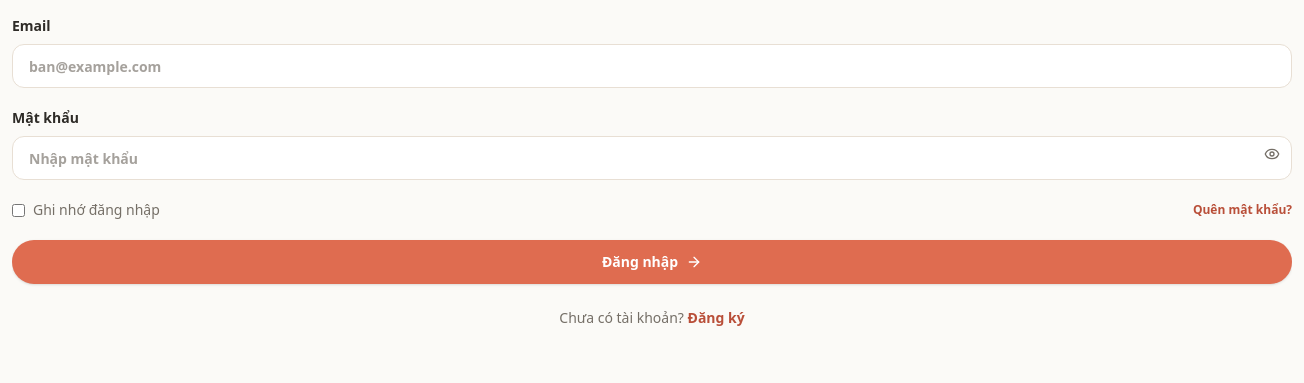
LoginForm › renders the generic credential error accessibly
This screenshot has width=1304, height=383.
Type " USER@example.com " into the field labelled "Email" at (652, 66), box [12, 44, 1292, 88]
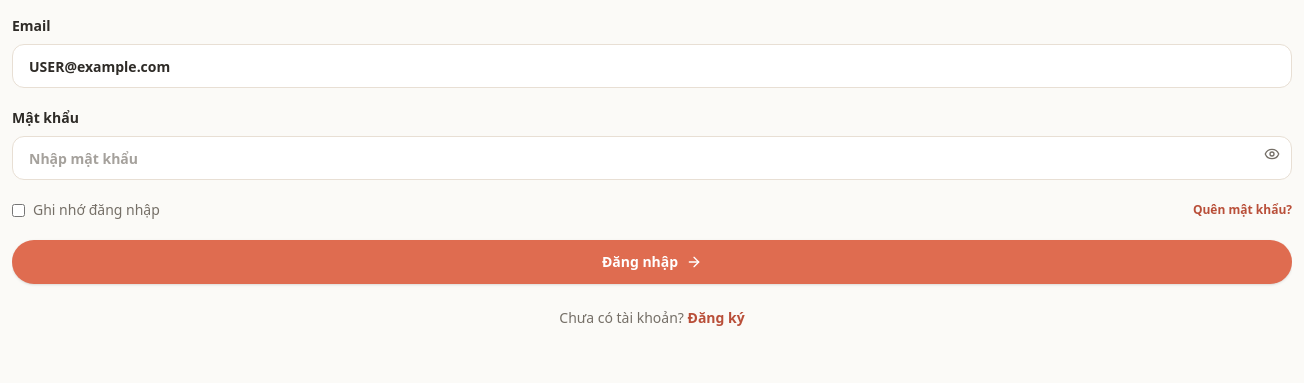
Type "submitted password" into the password field labelled "Mật khẩu" at (652, 158), box [12, 136, 1292, 180]
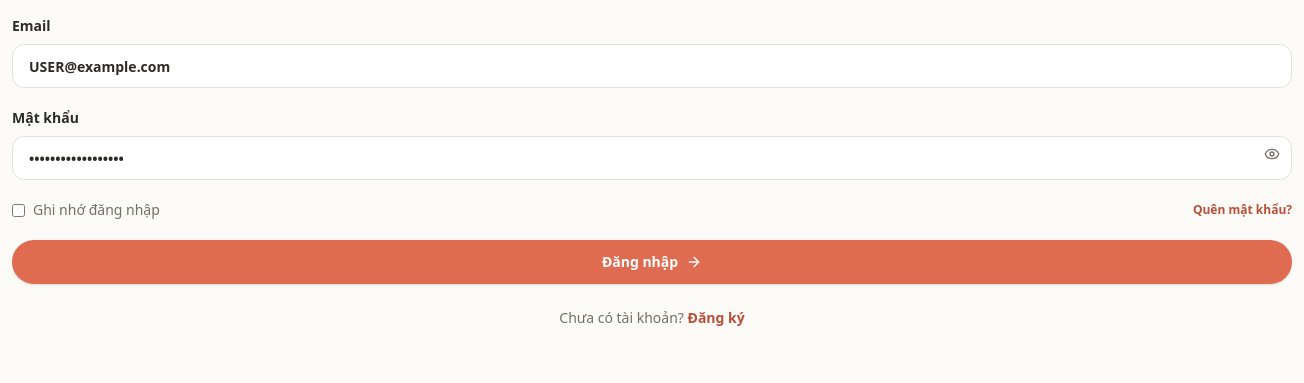
Submit the form "Email Mật khẩu Ghi nhớ đăng nhập Quên mật khẩu? Đăng nhập"
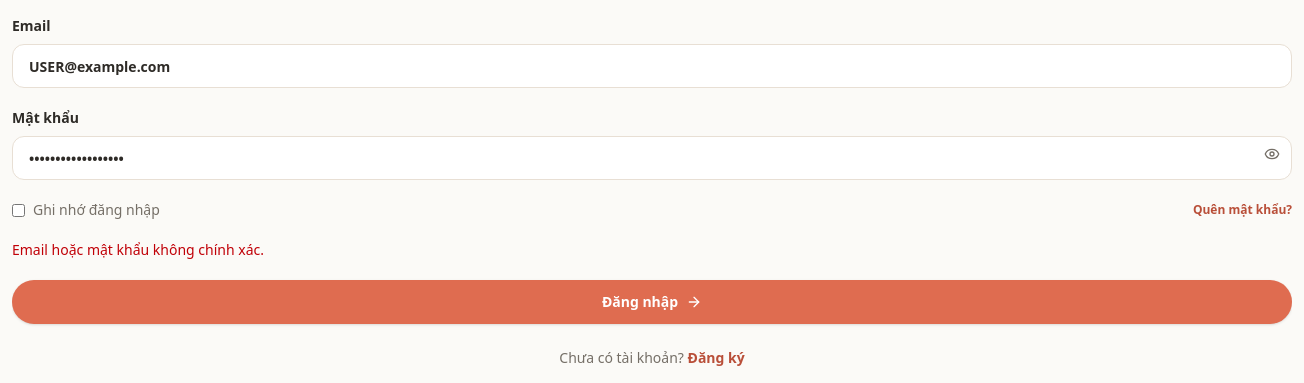
Now the message reads "Email hoặc mật khẩu không chính xác.", box [12, 240, 264, 259]
